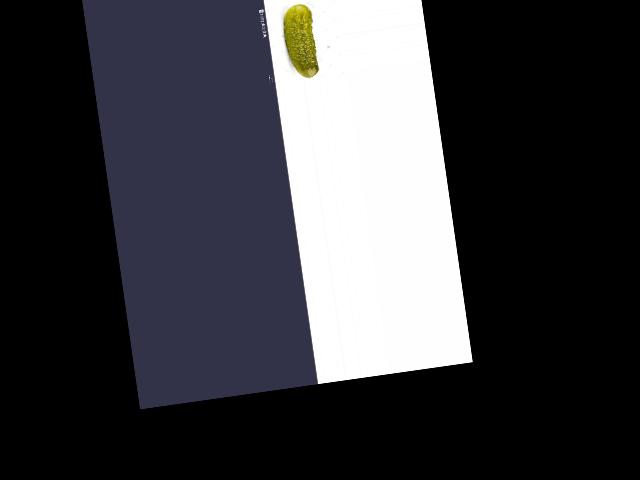cucumber: (280, 3, 320, 81)
